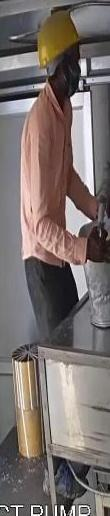boots: (42, 455, 99, 510)
hard-hat: (28, 7, 86, 51)
